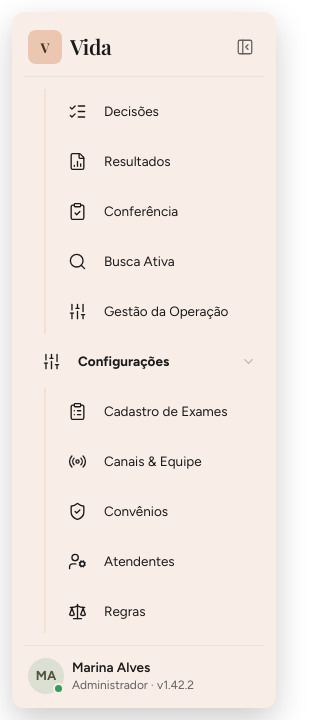
Sidebar — grupos (accordion, CRMLAB-4, revisado em D-129) › clicar no cabeçalho fecha o grupo e esconde os itens; clicar de novo reabre
(page scrolled)
Click the button "Configurações".
click(144, 361)  # box 28,338 -> 260,384
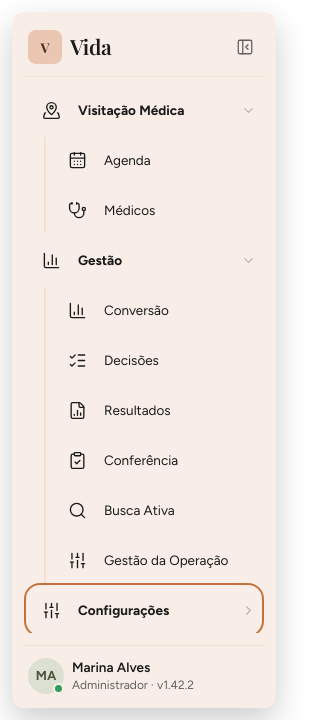
Expected: the text "Personalização" is not shown
Expected: the button "Configurações" is collapsed
Click the button "Configurações".
click(144, 610)  # box 28,587 -> 260,633
(page scrolled)
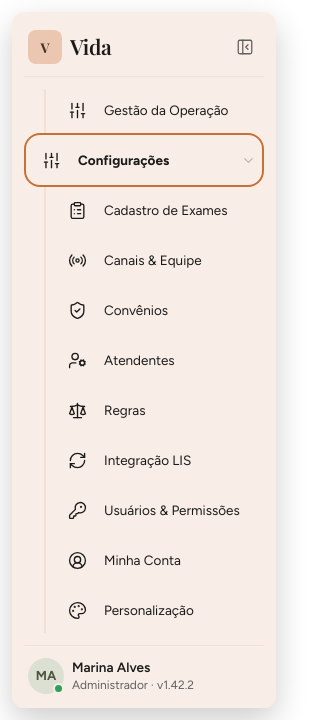
Expected: the button "Configurações" is expanded, 28,137 -> 260,183
Expected: the text "Personalização" is shown, 104,602 -> 194,618
